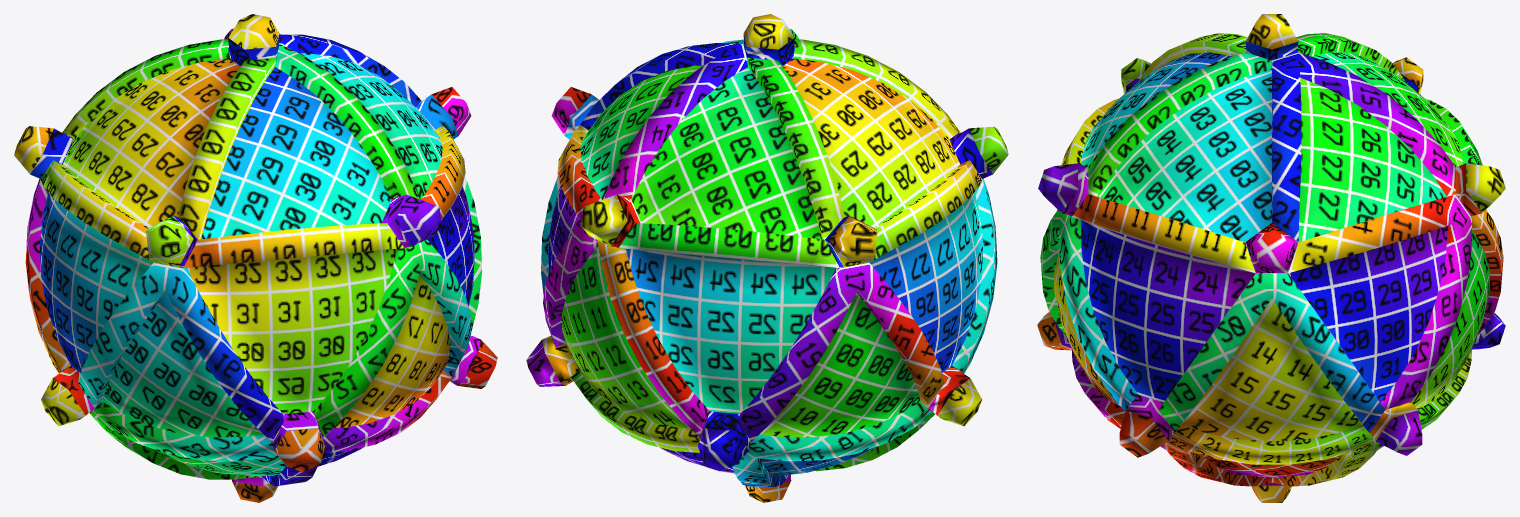
Rendered from BrainMine.obj.
3 renders of one model, left to right at view 1: azimuth 30°, elevation 25°; view 2: azimuth 150°, elevation 25°; view 3: azimuth 270°, elevation 25°, orthographic.
Visible parts, largest first — view 1: Icosphere; view 2: Icosphere; view 3: Icosphere.
Part boxes in pixels (x1,y1,x2,y2): Icosphere: (14,14,497,502); Icosphere: (526,14,1008,502); Icosphere: (1037,14,1505,502).
Size of the model in its own units: 2.21 by 2.4 by 2.12.
2 materials, 2 textured.
